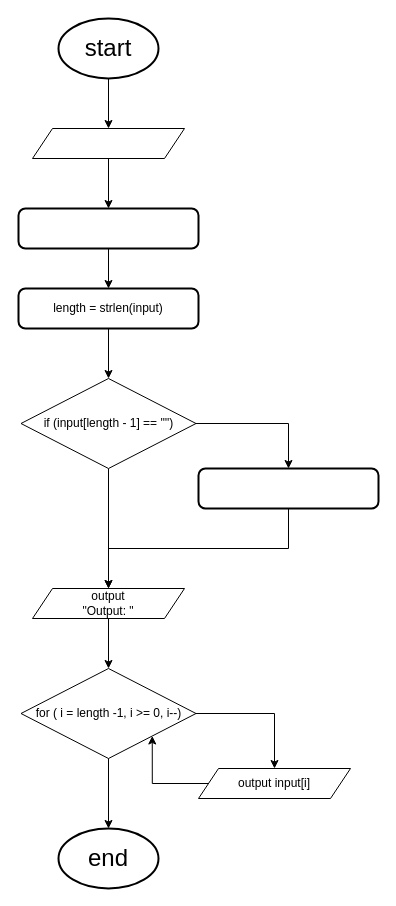
This 396x906 diagram has some shape labels left out. Each missing label, with the centre of its shape:
fgets(input, sizeof(input), stdin): point 108,228
input namA, ageA: point 108,143
input[length -1] = "0": point 288,488
